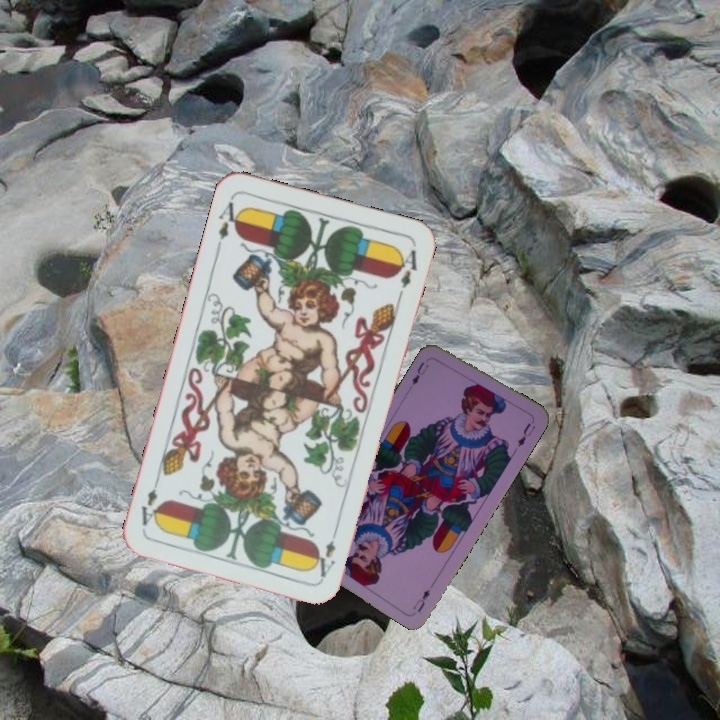EA: (212, 198, 245, 252), (311, 523, 341, 580)
EU: (409, 585, 433, 615), (408, 358, 431, 388)
